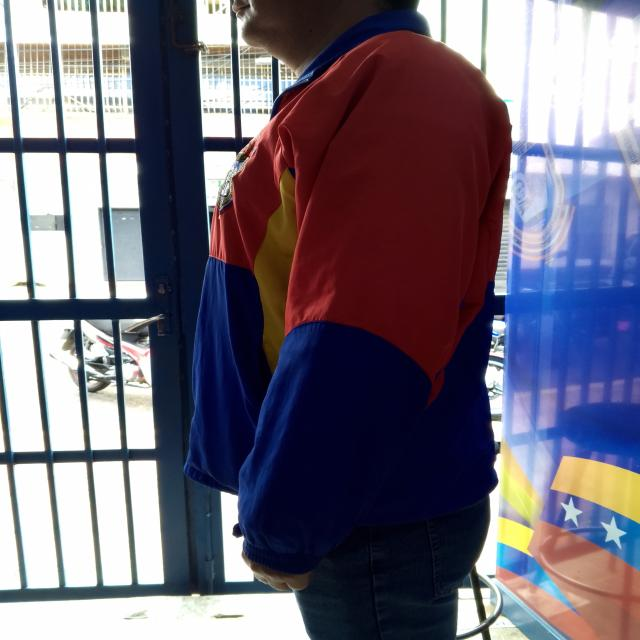chaqueta_unefa: (181, 9, 515, 576)
